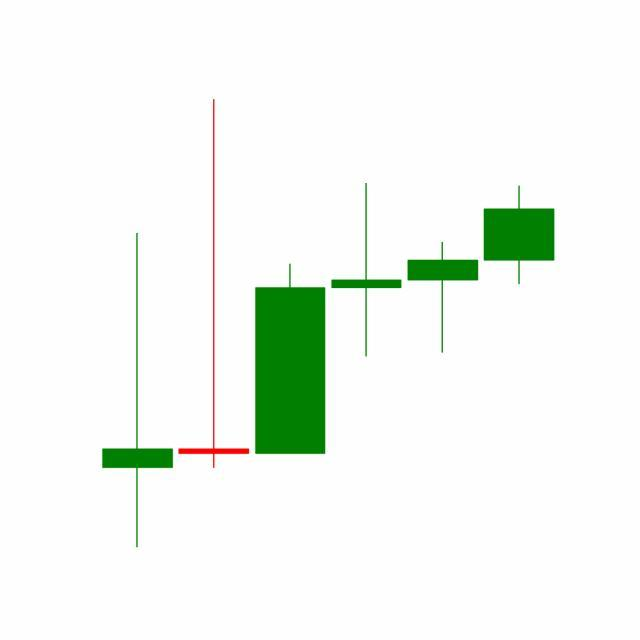Dragonfly Doji: (404, 242, 482, 356)
